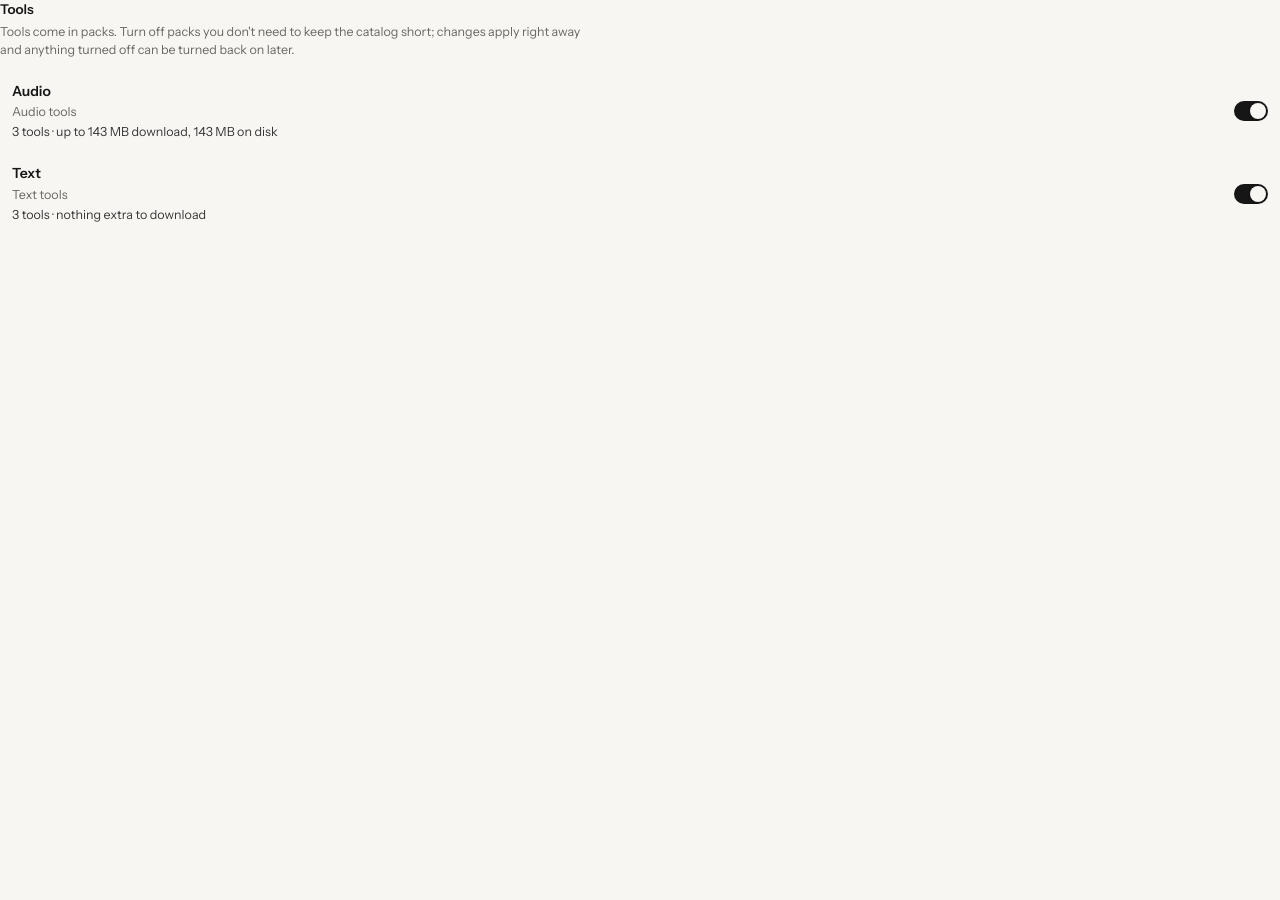
Test: Settings → Tools › turns a pack off and offers to free what only it used
Later steps or results of the test are not shown.
Expected: the text "3 tools · up to 143 MB download, 143 MB on disk" is shown, [12,123,278,141]
Click the switch named "Audio pack" at [1251, 111], box [1234,101,1268,121]
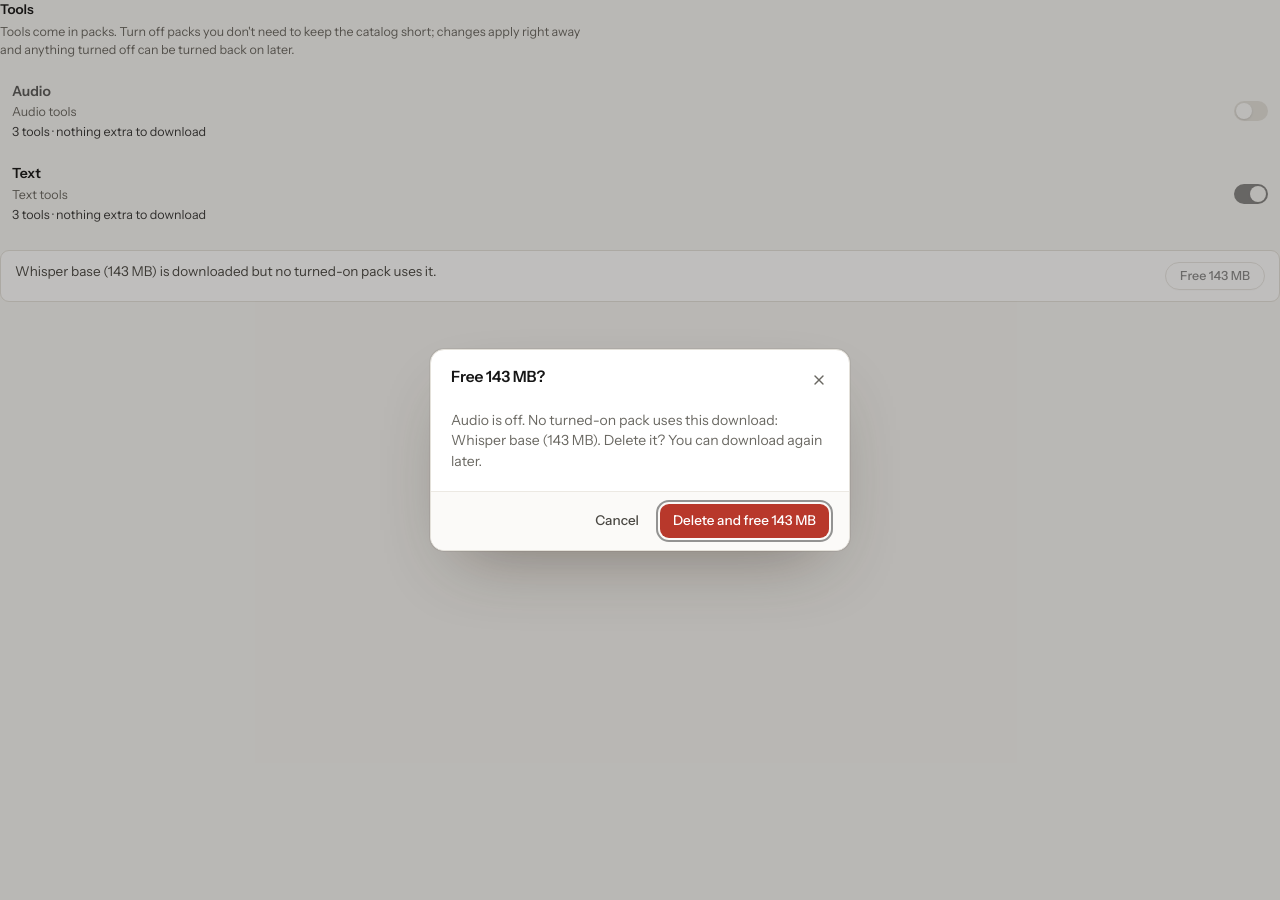
Expected: the text "Whisper base" is shown, [15,263,157,279]
